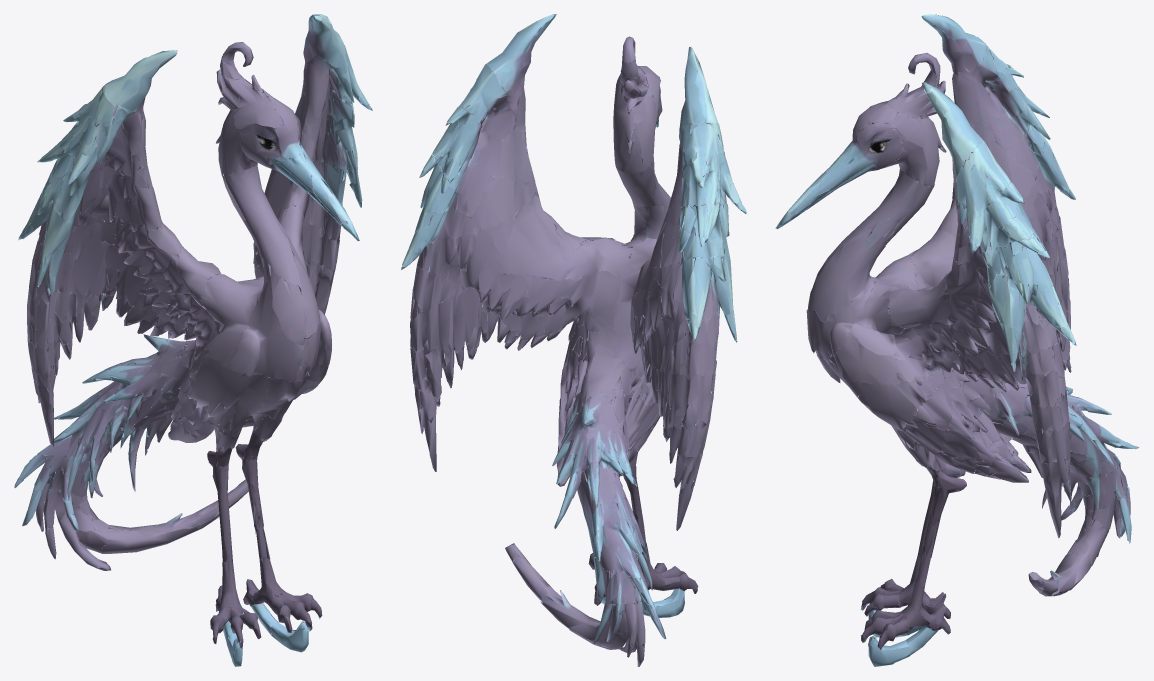
3 renders of one model, left to right at view 1: azimuth 30°, elevation 25°; view 2: azimuth 150°, elevation 25°; view 3: azimuth 270°, elevation 25°, orthographic. The views are drawn at different scales.
Parts seen in each view (by area): view 1: Mesh_0; view 2: Mesh_0; view 3: Mesh_0.
Boxes of the visible parts, left/top/right/bottom form: Mesh_0: left=14, top=14, right=372, bottom=666; Mesh_0: left=401, top=14, right=746, bottom=666; Mesh_0: left=775, top=14, right=1139, bottom=666.
Size of the model in its own units: 1.06 by 1.9 by 1.04.
Materials: 1 (1 with a texture image).
